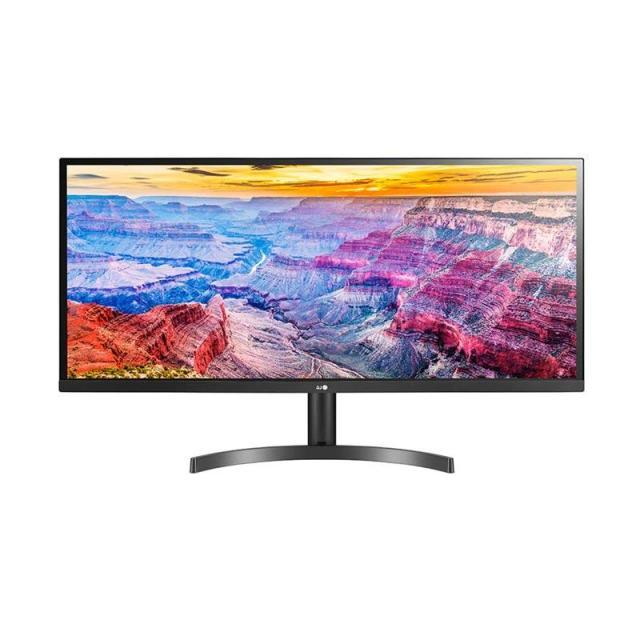monitor: (49, 135, 594, 498)
